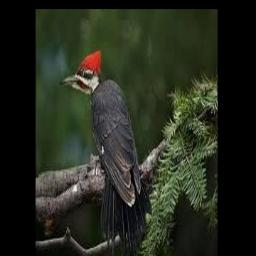Woodpecker: (61, 47, 151, 256)
